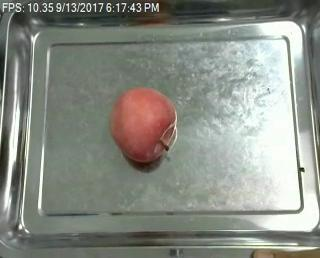apple: (108, 88, 178, 167)
